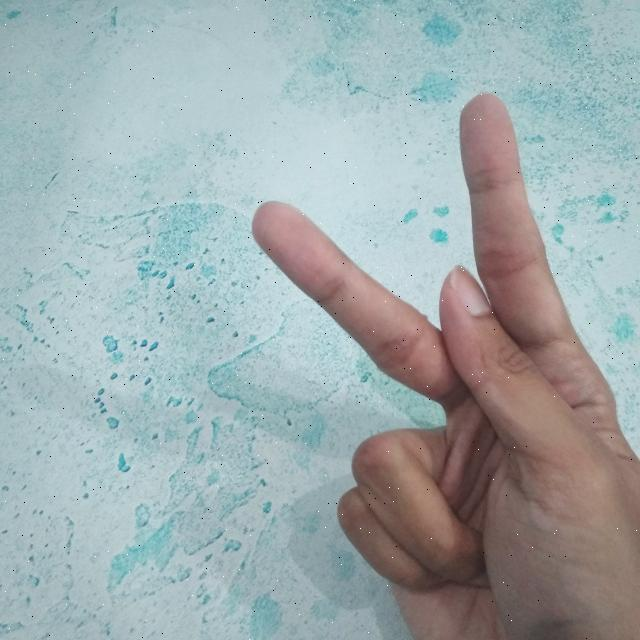K: (249, 88, 640, 640)
